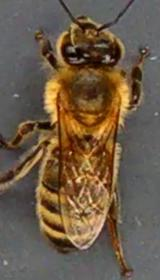varroa_mite: (48, 142, 74, 160)
